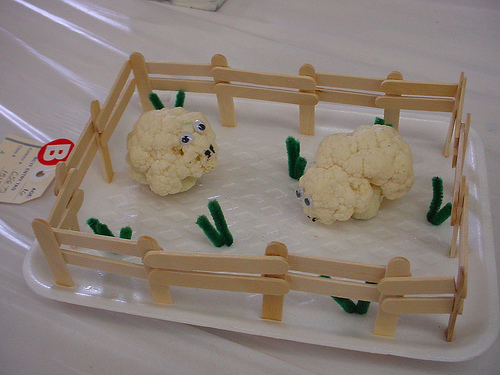cauliflower: (298, 123, 419, 226), (123, 105, 222, 198)
